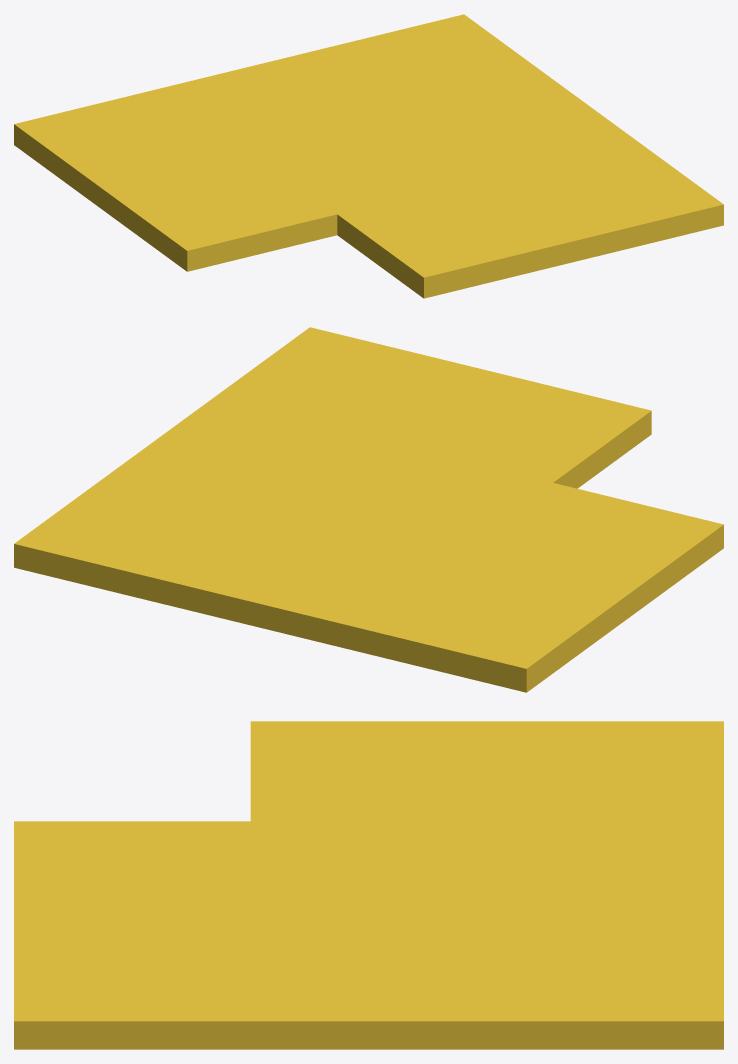
File: Floor_A_LineHalf_LType.FBX
3 renders of one model, top to bottom at view 1: azimuth 30°, elevation 25°; view 2: azimuth 150°, elevation 25°; view 3: azimuth 270°, elevation 25°, orthographic. The views are drawn at different scales.
Visible parts, largest first — view 1: Floor_A_LineHalf_LType; view 2: Floor_A_LineHalf_LType; view 3: Floor_A_LineHalf_LType.
Part boxes in pixels (x1=…): Floor_A_LineHalf_LType: x1=14, y1=14, x2=723, y2=298; Floor_A_LineHalf_LType: x1=14, y1=327, x2=723, y2=692; Floor_A_LineHalf_LType: x1=14, y1=721, x2=723, y2=1049.
Bounding box in the file's own units: 450 × 20 × 450.
